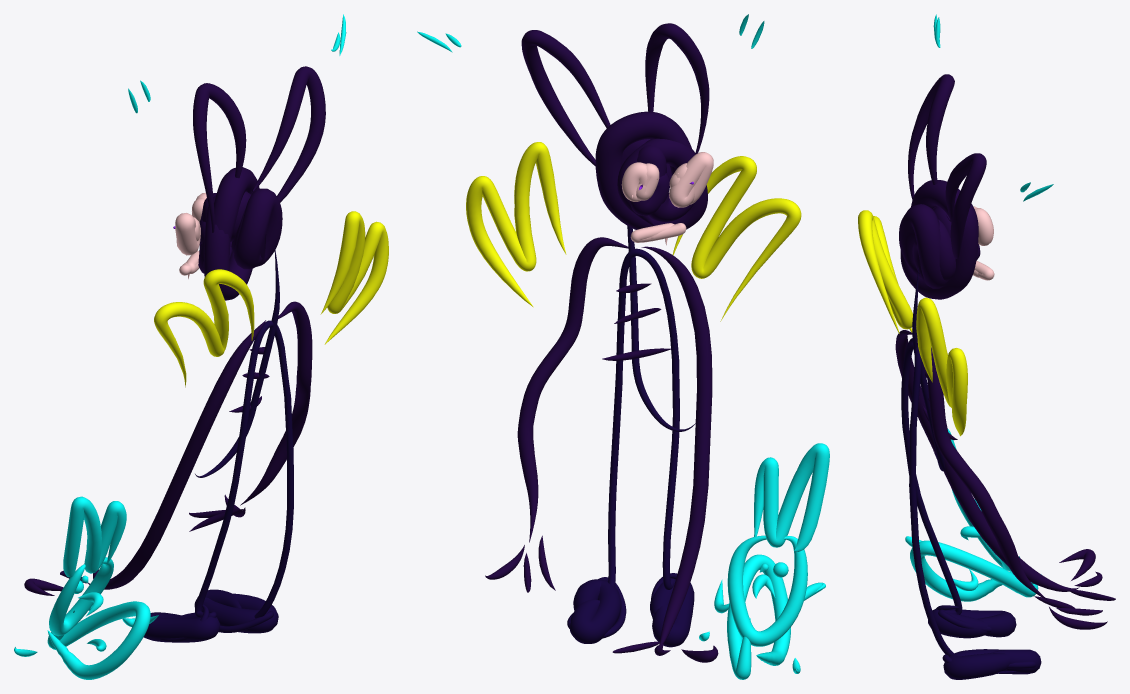
File: demon1.glb
3 renders of one model, left to right at view 1: azimuth 30°, elevation 25°; view 2: azimuth 150°, elevation 25°; view 3: azimuth 270°, elevation 25°, orthographic. The views are drawn at different scales.
Parts seen in each view (by area): view 1: demon1; view 2: demon1; view 3: demon1.
Part boxes in pixels (left/top/right/bottom): demon1: left=14, top=14, right=388, bottom=679; demon1: left=417, top=14, right=829, bottom=679; demon1: left=858, top=14, right=1115, bottom=679.
Bounding box in the file's own units: 0.7626 × 1.26 × 0.4861.
Materials: 1 (1 with a texture image).
